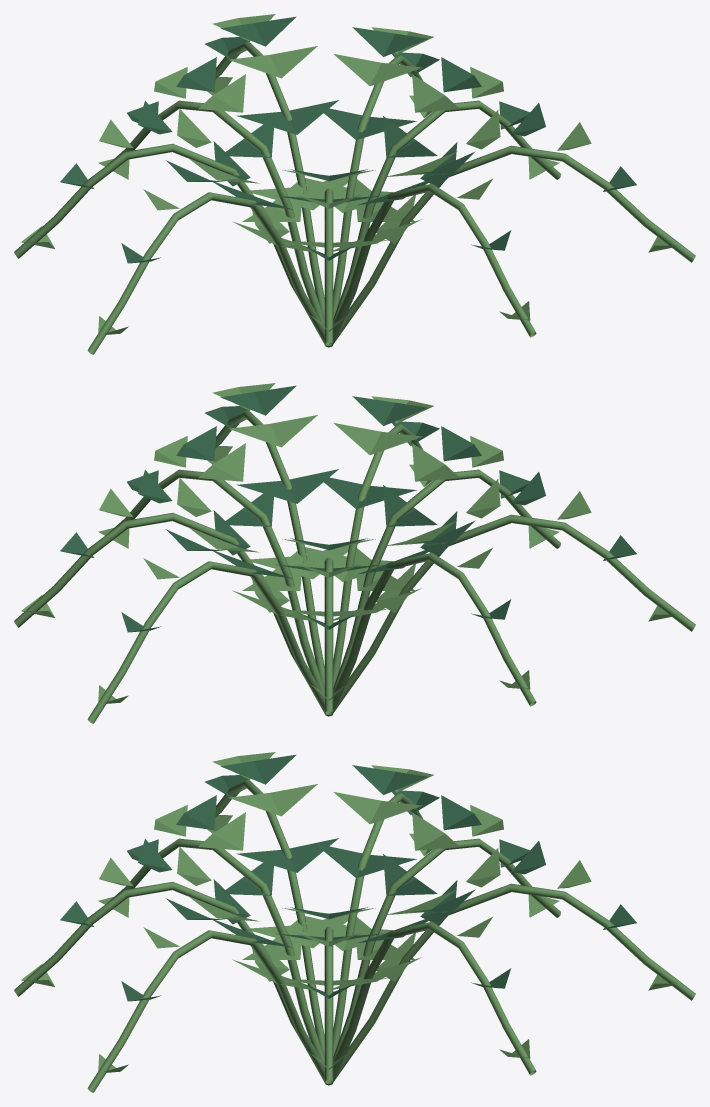
The model's file is FernCluster.fbx.
3 renders of one model, top to bottom at view 1: azimuth 30°, elevation 25°; view 2: azimuth 150°, elevation 25°; view 3: azimuth 270°, elevation 25°, orthographic.
Parts seen in each view (by area): view 1: Fern rachis.008_export, Fern rachis.005_export, Fern rachis.007_export, Fern rachis.003_export, Fern rachis.004_export, Fern rachis_export, Fern rachis.002_export, Fern rachis.001_export, Fern rachis.006_export, Pinna.030_export, Pinna.017_export, Pinna.019_export (+11 smaller); view 2: Fern rachis.005_export, Fern rachis.002_export, Fern rachis.004_export, Fern rachis_export, Fern rachis.001_export, Fern rachis.006_export, Fern rachis.008_export, Fern rachis.007_export, Fern rachis.003_export, Pinna.114_export, Pinna.101_export, Pinna.103_export (+11 smaller); view 3: Fern rachis.002_export, Fern rachis.008_export, Fern rachis.001_export, Fern rachis.006_export, Fern rachis.007_export, Fern rachis.003_export, Fern rachis.005_export, Fern rachis.004_export, Fern rachis_export, Pinna.072_export, Pinna.059_export, Pinna.061_export (+11 smaller).
Boxes of the visible parts, <box> form: Fern rachis.008_export: <box>331,145,695,346</box>; Fern rachis.005_export: <box>87,192,328,354</box>; Fern rachis.007_export: <box>329,183,536,347</box>; Fern rachis.003_export: <box>107,100,324,323</box>; Fern rachis.004_export: <box>14,143,326,346</box>; Fern rachis_export: <box>333,100,560,323</box>; Fern rachis.002_export: <box>215,41,324,317</box>; Fern rachis.001_export: <box>333,55,422,318</box>; Fern rachis.006_export: <box>324,188,333,346</box>; Pinna.030_export: <box>289,100,338,134</box>; Pinna.017_export: <box>314,105,362,139</box>; Pinna.019_export: <box>334,54,381,85</box>; Fern rachis.005_export: <box>331,514,695,715</box>; Fern rachis.002_export: <box>87,561,328,723</box>; Fern rachis.004_export: <box>329,552,536,716</box>; Fern rachis_export: <box>107,469,324,692</box>; Fern rachis.001_export: <box>14,512,326,715</box>; Fern rachis.006_export: <box>333,469,560,692</box>; Fern rachis.008_export: <box>215,410,324,686</box>; Fern rachis.007_export: <box>333,424,422,687</box>; Fern rachis.003_export: <box>324,557,333,715</box>; Pinna.114_export: <box>289,469,338,503</box>; Pinna.101_export: <box>314,474,362,508</box>; Pinna.103_export: <box>334,423,381,454</box>; Fern rachis.002_export: <box>331,883,695,1084</box>; Fern rachis.008_export: <box>87,930,328,1092</box>; Fern rachis.001_export: <box>329,921,536,1085</box>; Fern rachis.006_export: <box>107,838,324,1061</box>; Fern rachis.007_export: <box>14,881,326,1084</box>; Fern rachis.003_export: <box>333,838,560,1061</box>; Fern rachis.005_export: <box>215,779,324,1055</box>; Fern rachis.004_export: <box>333,793,422,1056</box>; Fern rachis_export: <box>324,926,333,1084</box>; Pinna.072_export: <box>289,838,338,872</box>; Pinna.059_export: <box>314,843,362,877</box>; Pinna.061_export: <box>334,792,381,823</box>.
Size of the model in its own units: 361 by 151 by 387.
